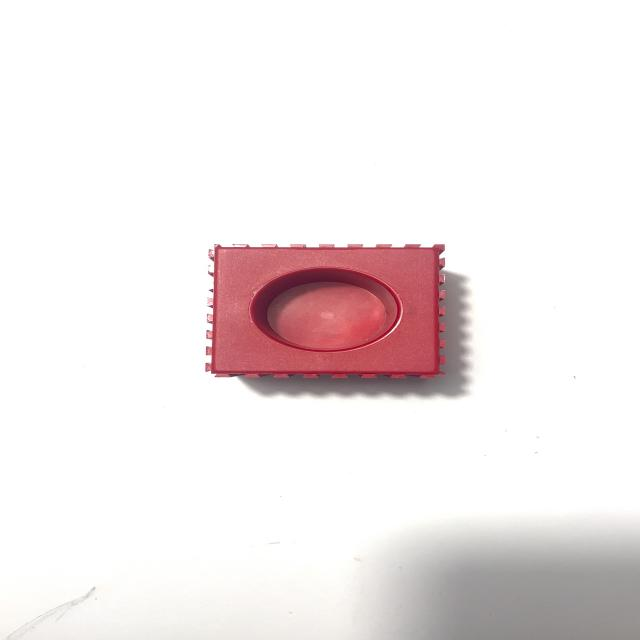Empty_Slot: (205, 245, 444, 378)
